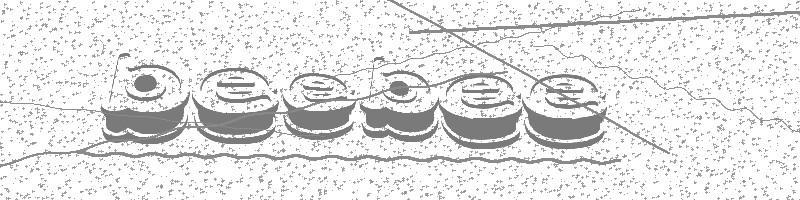b: (99, 52, 190, 145), (360, 57, 438, 142)
e: (191, 67, 281, 146), (522, 73, 607, 150), (438, 74, 524, 150), (281, 68, 355, 141)
